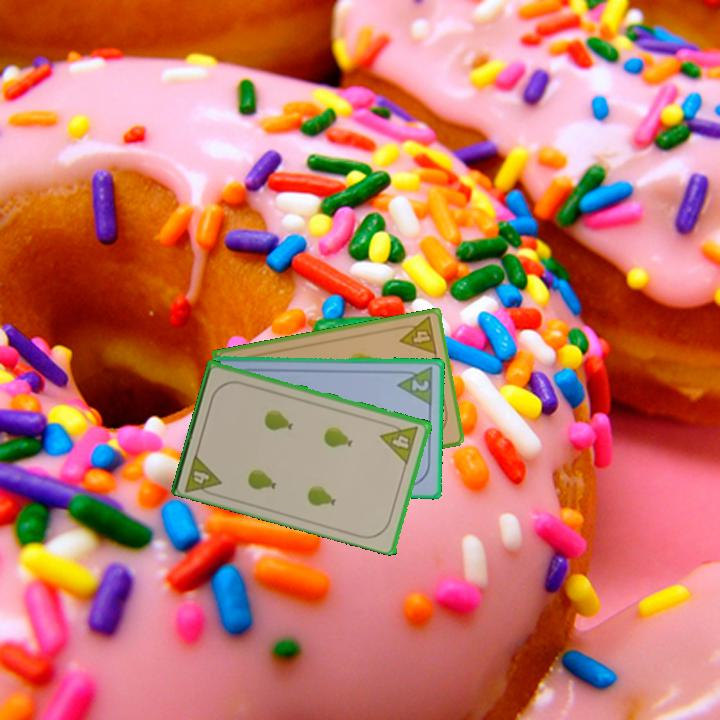2p: (394, 363, 436, 407)
4p: (181, 449, 225, 500), (378, 418, 421, 466), (394, 313, 440, 357)
